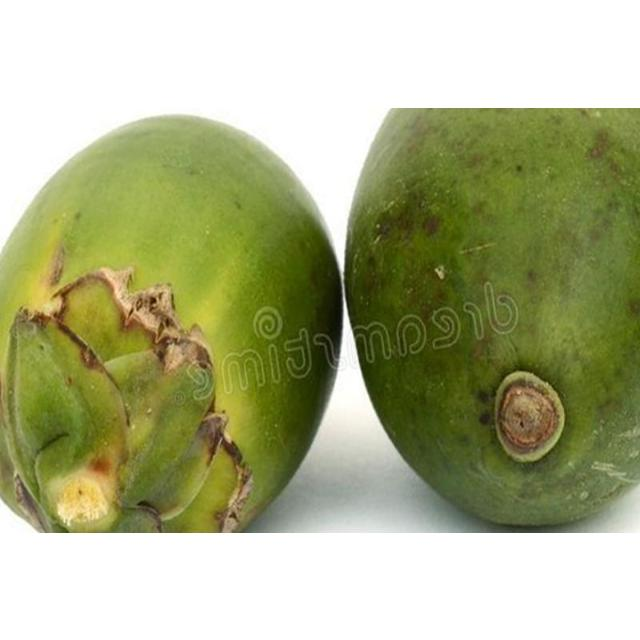good: (0, 114, 344, 532), (343, 107, 639, 528)
